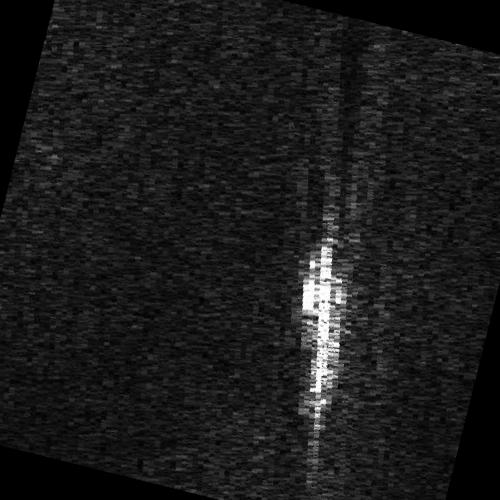ship: (300, 237, 345, 439)
